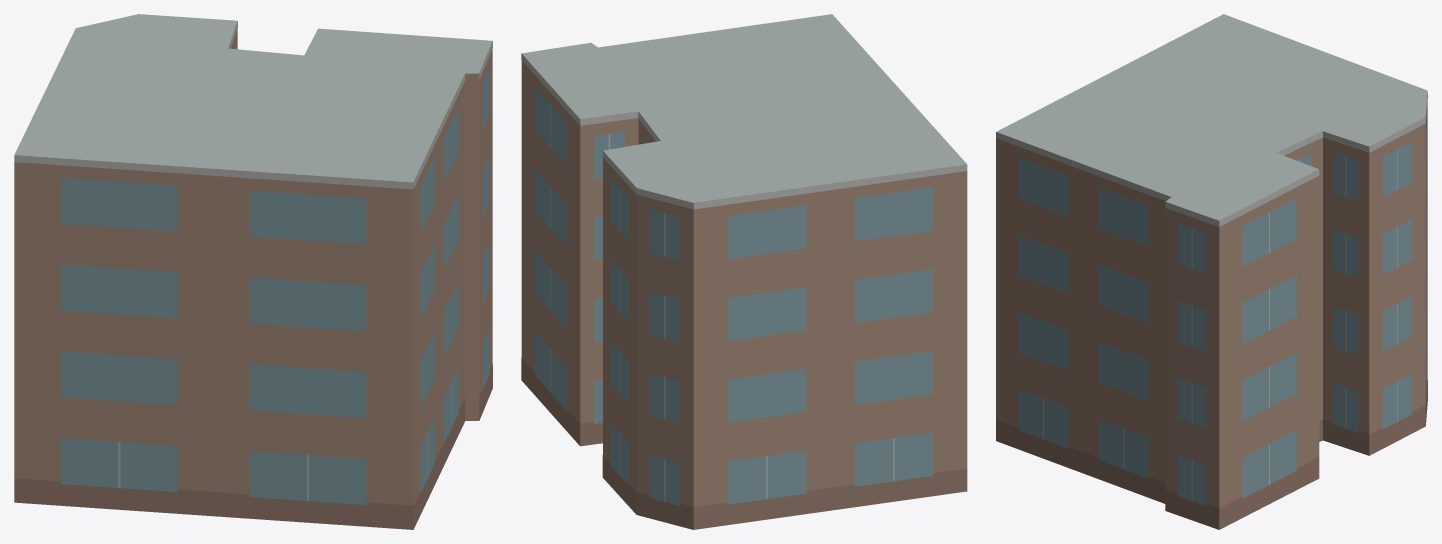
Rendered from survey-upis-33014218.glb.
3 views of the same model, side by side, from view 1: azimuth 30°, elevation 25°; view 2: azimuth 150°, elevation 25°; view 3: azimuth 270°, elevation 25° (orthographic). The views are drawn at different scales.
Parts seen in each view (by area): view 1: survey-upis-33014218.tmp; view 2: survey-upis-33014218.tmp; view 3: survey-upis-33014218.tmp.
Boxes of the visible parts, box(x1,y1,x2,y2) form: survey-upis-33014218.tmp: box(14, 14, 492, 529); survey-upis-33014218.tmp: box(521, 14, 967, 529); survey-upis-33014218.tmp: box(996, 14, 1427, 529).
Size of the model in its own units: 17.44 by 12.15 by 15.39.
